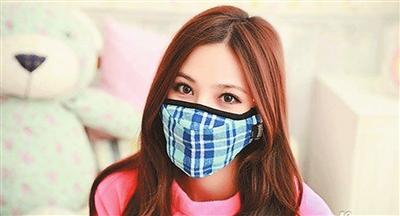OK: (164, 66, 255, 172)
